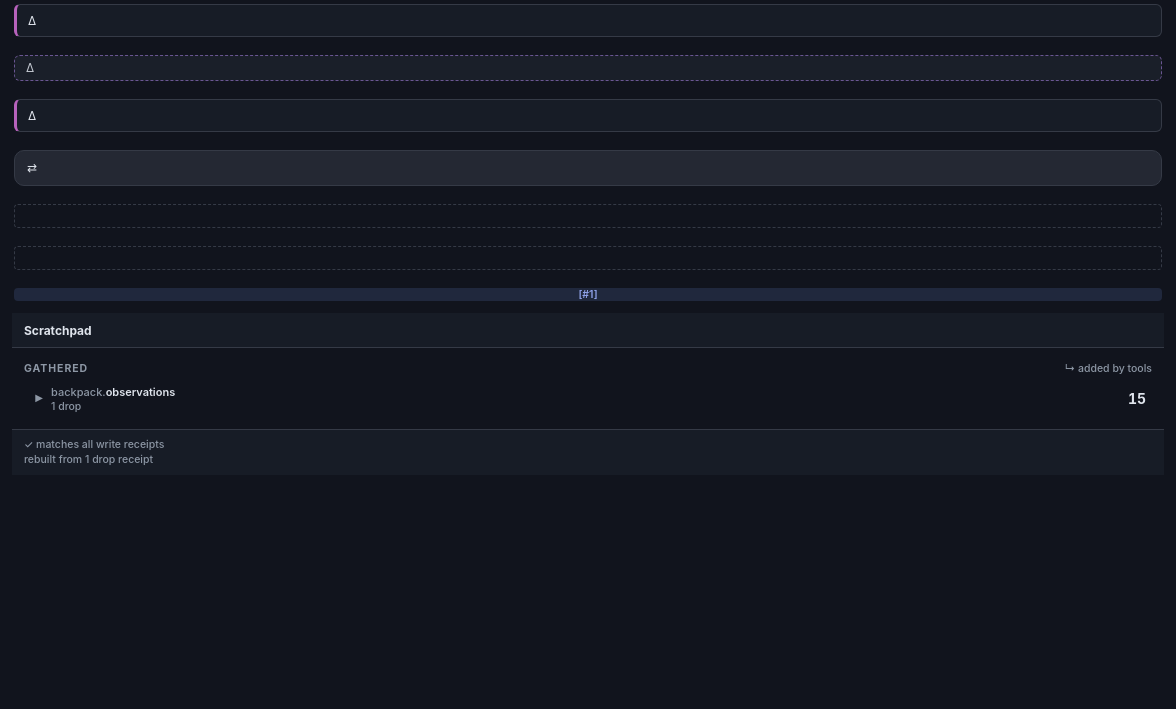
it: ledger overflow › folds past 12 rows behind 'N excluded · show'
Click the button with class "chev" at {"x": 39, "y": 398}, box [27,381,51,415]
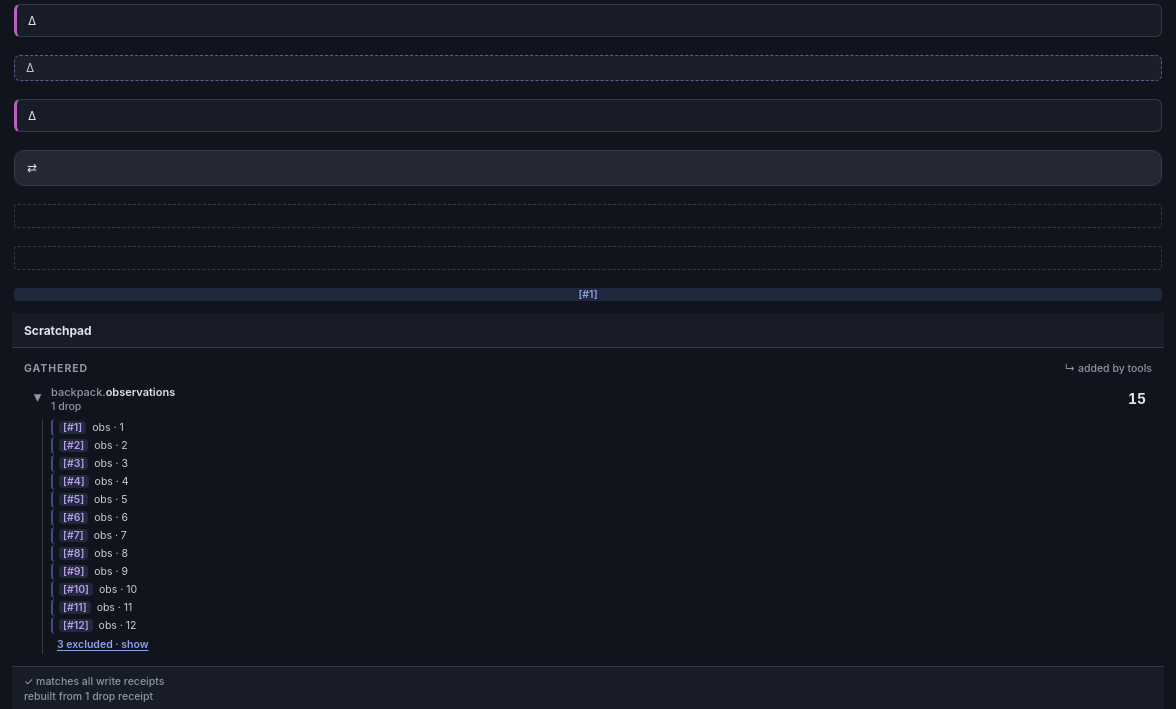
Now the number of buttons with class "idx-row" is 12
Now the button with class "idx-more" reads "3 excluded · show"
Click the button with class "idx-more" at {"x": 106, "y": 644}, box [51,635,1152,654]
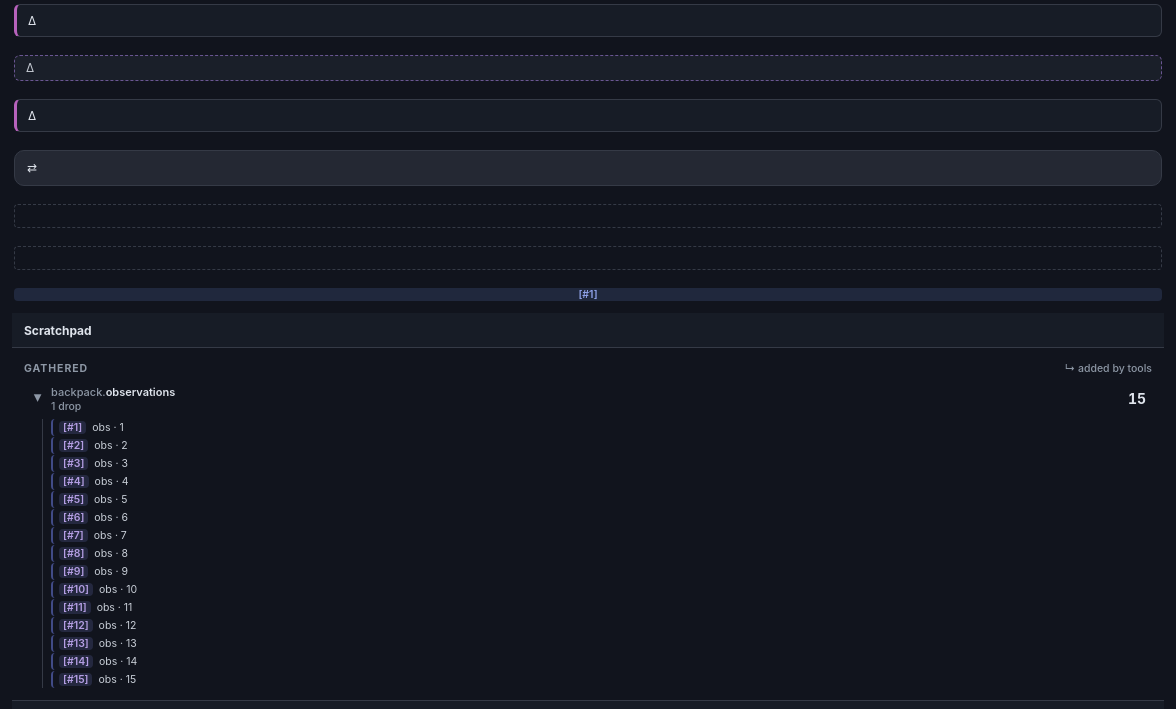
Now the button with class "idx-more" is gone
